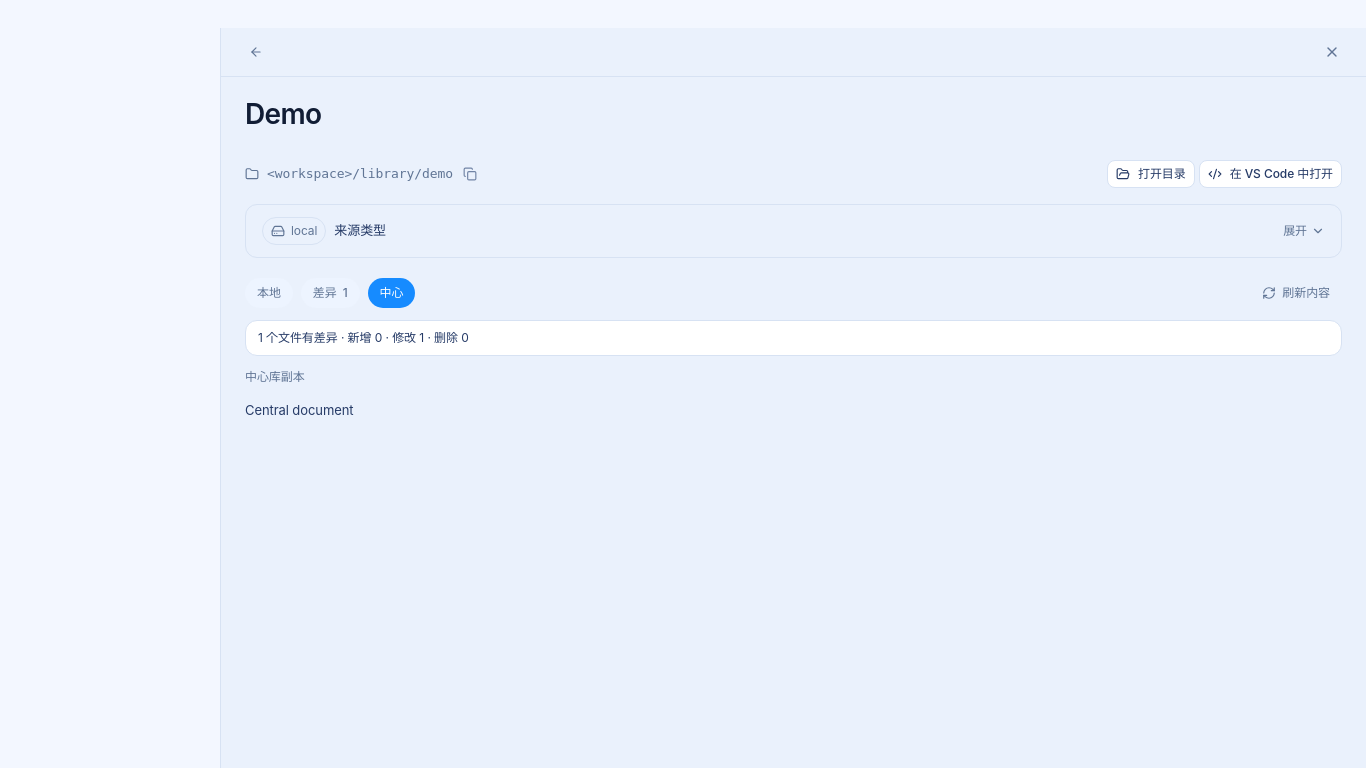
Scenario: refreshes changed local files while preserving the selected tab across metadata updates
This screenshot has width=1366, height=768.
What coordinates should you click on to do the following:
click the tab "本地"
I would click on:
 (269, 293)
Its box is [245,278,293,308].
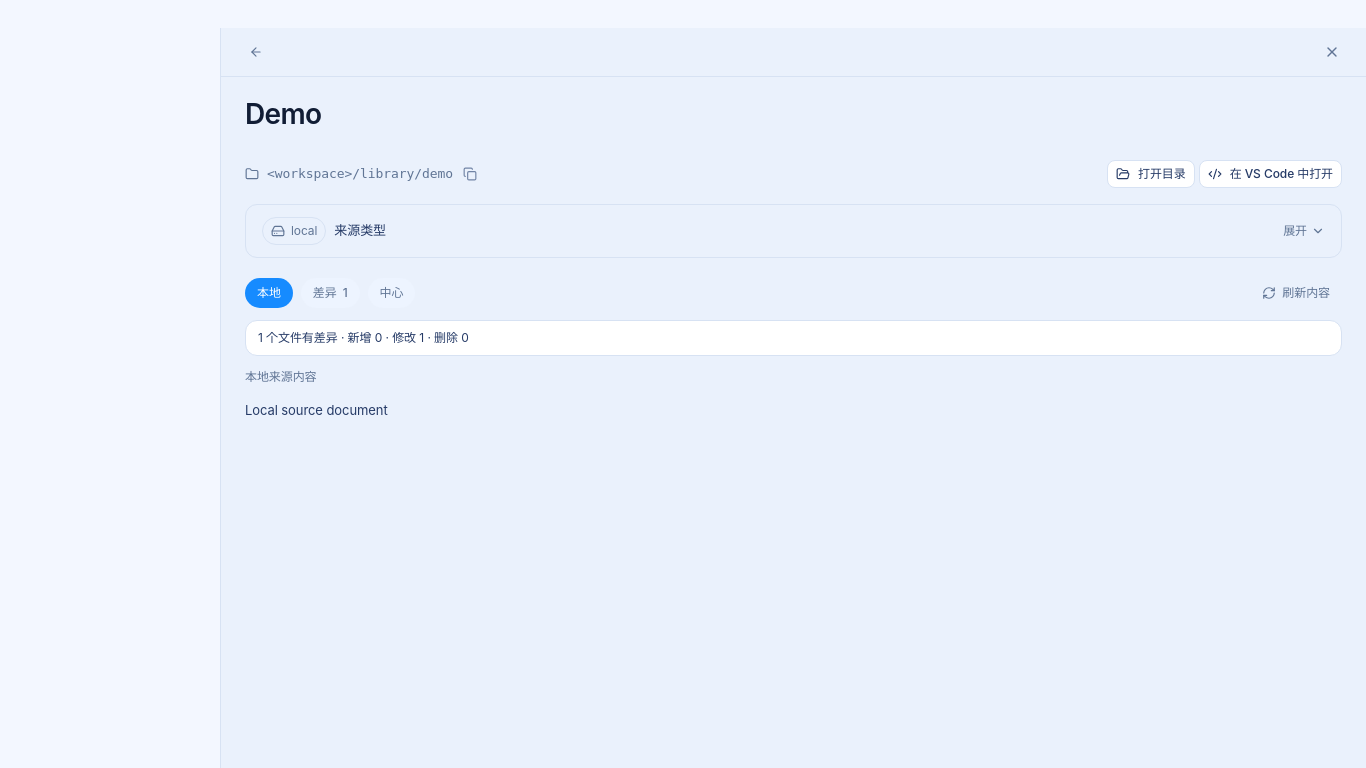
What coordinates should you click on to do the following:
click the button "刷新内容"
I would click on:
 (1296, 293)
Its box is [1250,278,1342,308].
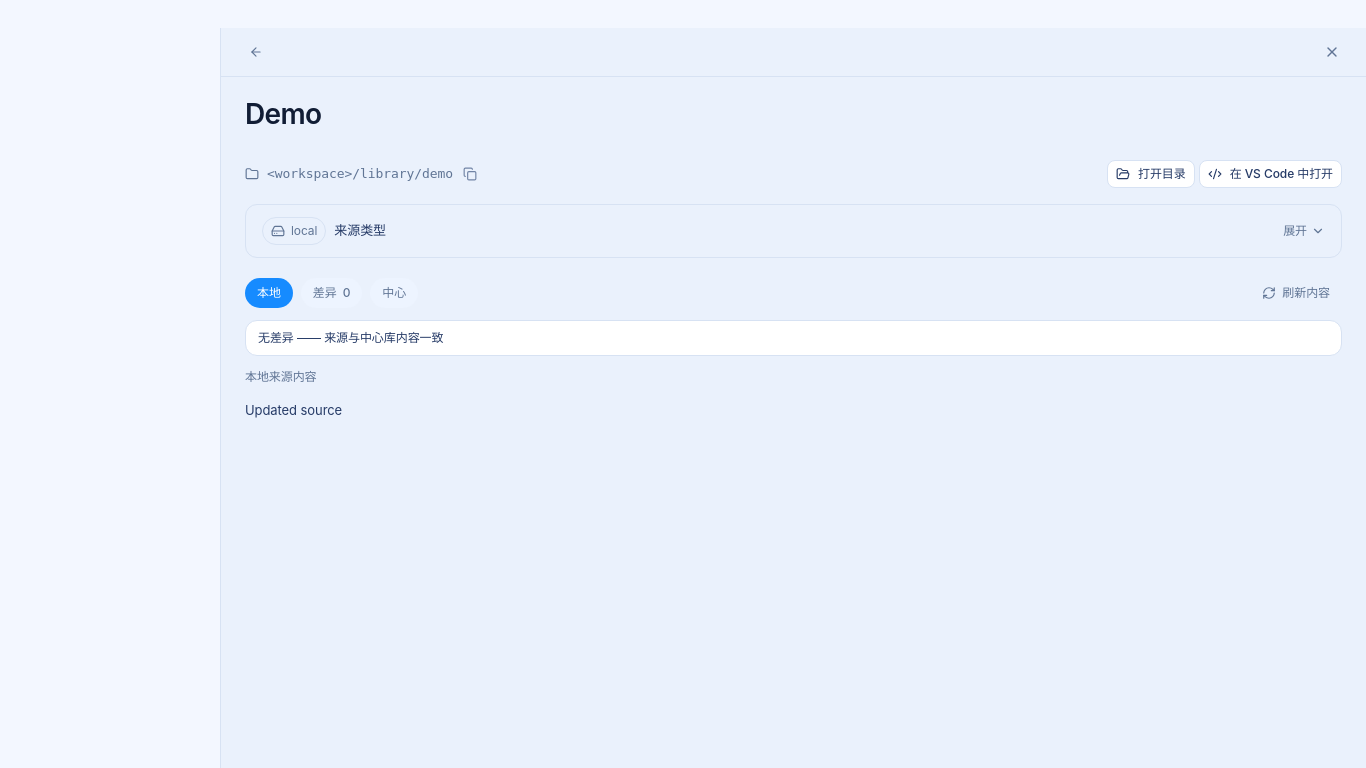
Check: the tab "本地" is shown, box [245,278,293,308]
Check: the element showing "Updated source" is shown, box [245,402,342,418]
Check: the text "来源与中心库内容一致" is shown, box [258,330,443,345]
